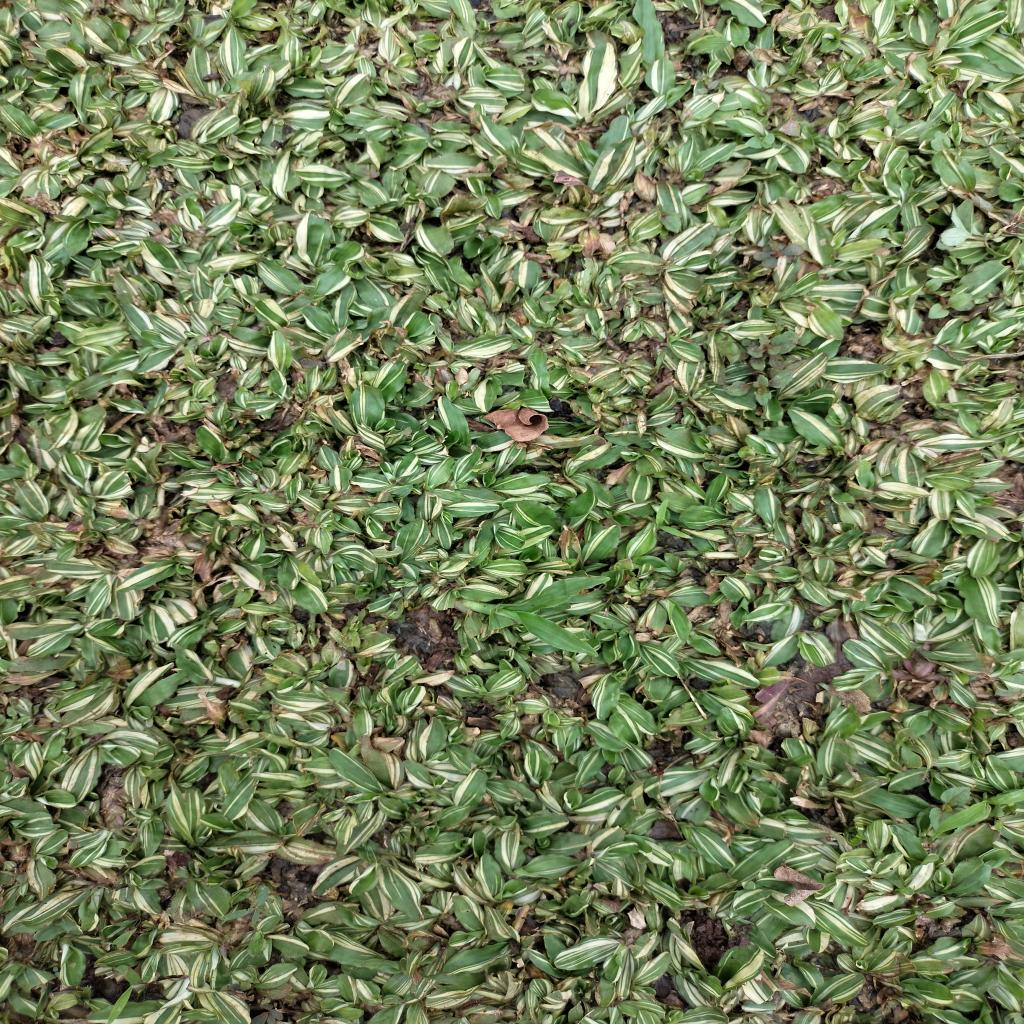bayi: (696, 78, 720, 96), (50, 964, 64, 980)
buah daun: (749, 235, 806, 272)
rambat atas: (928, 785, 1024, 842), (106, 980, 148, 1024), (653, 498, 696, 540)
rambat bawah: (451, 574, 614, 658)
ungu tunggang: (720, 366, 804, 410), (738, 327, 804, 372), (915, 276, 976, 322), (926, 783, 974, 831)
